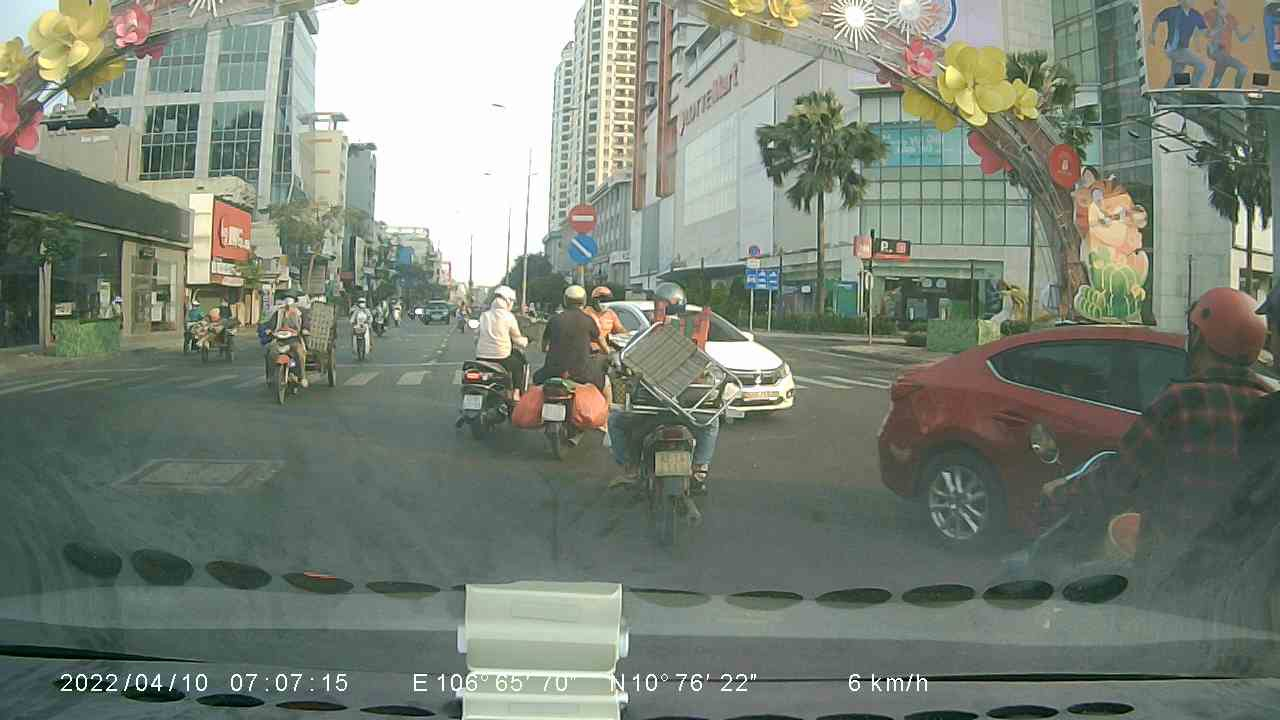Cam di nguoc chieu: (568, 200, 597, 234)
Huong di phai re phai: (566, 234, 598, 264)
